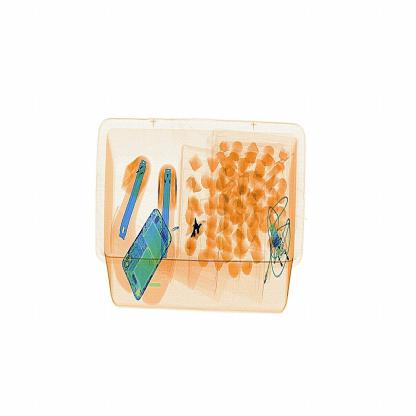gun: (179, 205, 215, 252)
